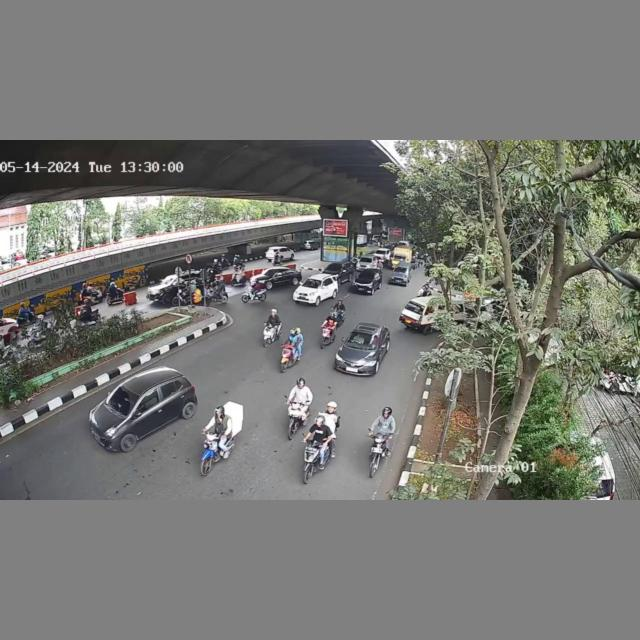windshield: (106, 380, 140, 413), (345, 331, 380, 348)
